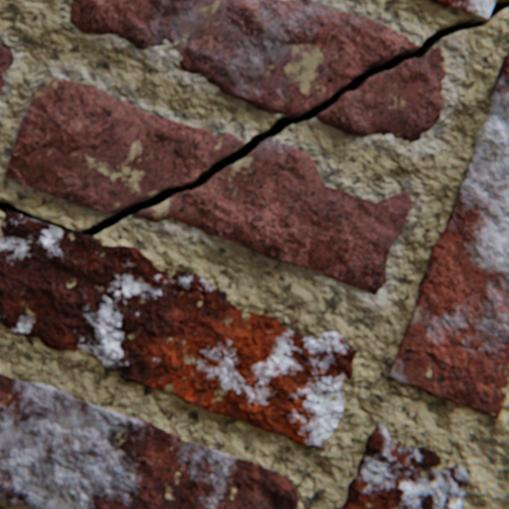brick: (0, 210, 355, 448), (388, 52, 508, 416), (0, 373, 297, 508), (340, 422, 467, 508), (428, 0, 494, 20), (291, 319, 296, 324)
broken_brick: (133, 140, 410, 294), (71, 0, 418, 115), (6, 78, 245, 212), (316, 47, 445, 142), (0, 43, 14, 96)
crack: (0, 0, 508, 235)
